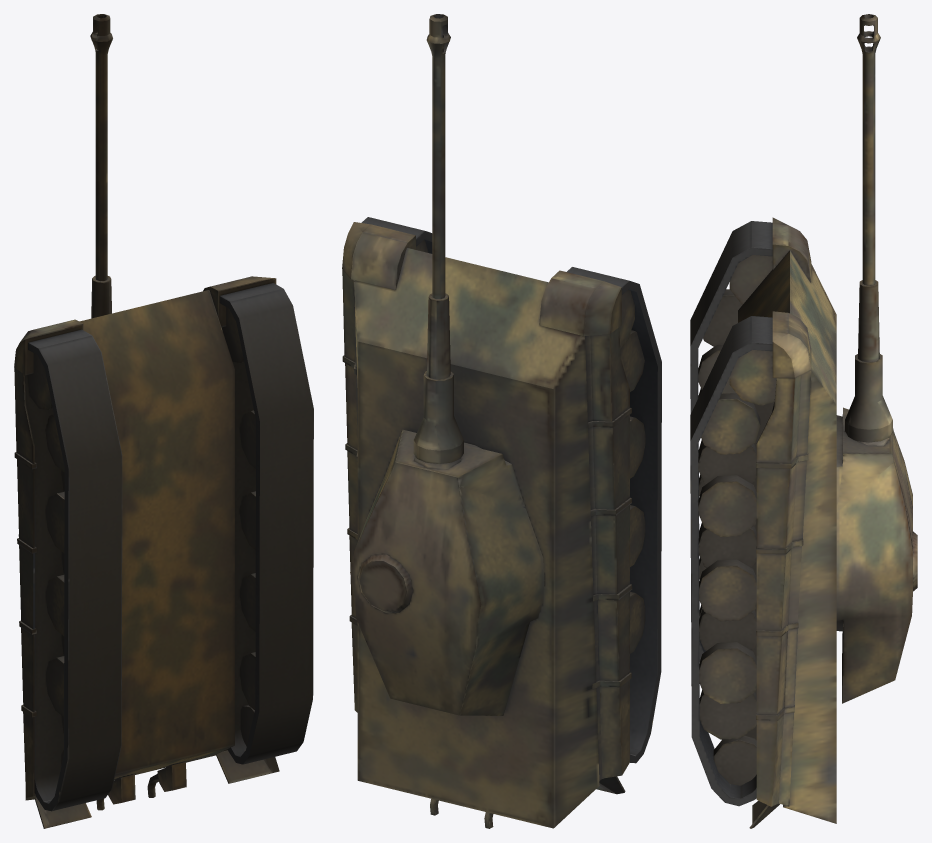
File: AMX-50 100.fbx
3 renders of one model, left to right at view 1: azimuth 30°, elevation 25°; view 2: azimuth 150°, elevation 25°; view 3: azimuth 270°, elevation 25°, orthographic. The views are drawn at different scales.
Parts seen in each view (by area): view 1: TigerII_H Body, TigerII_H Turret; view 2: TigerII_H Body, TigerII_H Turret; view 3: TigerII_H Body, TigerII_H Turret.
Boxes of the visible parts, x1,y1,x2,y2 form: TigerII_H Body: (14, 276, 313, 828); TigerII_H Turret: (18, 14, 112, 536); TigerII_H Body: (342, 217, 661, 828); TigerII_H Turret: (350, 14, 544, 715); TigerII_H Body: (690, 217, 836, 828); TigerII_H Turret: (836, 14, 917, 703).
Size of the model in its own units: 147 by 427 by 113.
